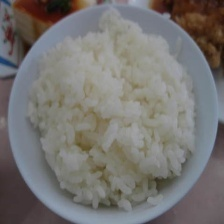rice: (16, 6, 210, 218)
